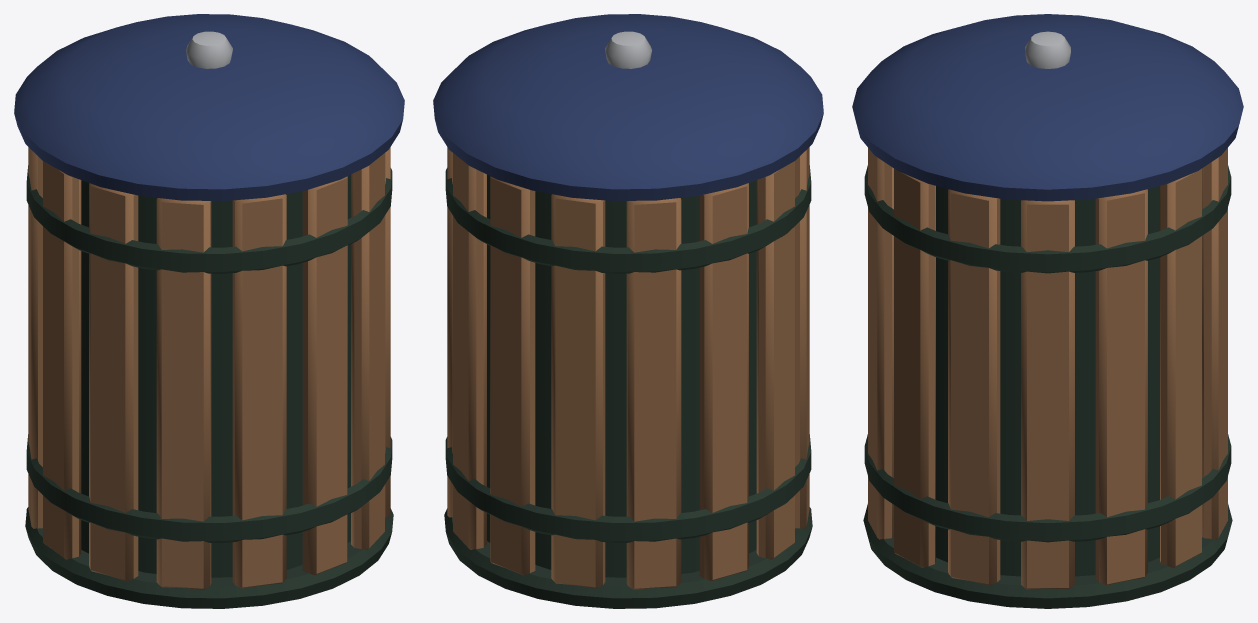
File: TrashBin.fbx
The picture shows the model from 3 angles, left to right: view 1: azimuth 30°, elevation 25°; view 2: azimuth 150°, elevation 25°; view 3: azimuth 270°, elevation 25°; orthographic projection.
Parts seen in each view (by area): view 1: TrashBin; view 2: TrashBin; view 3: TrashBin.
Part boxes in pixels (left/top/right/bottom): TrashBin: left=14, top=14, right=404, bottom=608; TrashBin: left=433, top=14, right=823, bottom=608; TrashBin: left=852, top=14, right=1243, bottom=608.
Bounding box in the file's own units: 0.594 × 0.83 × 0.594.
